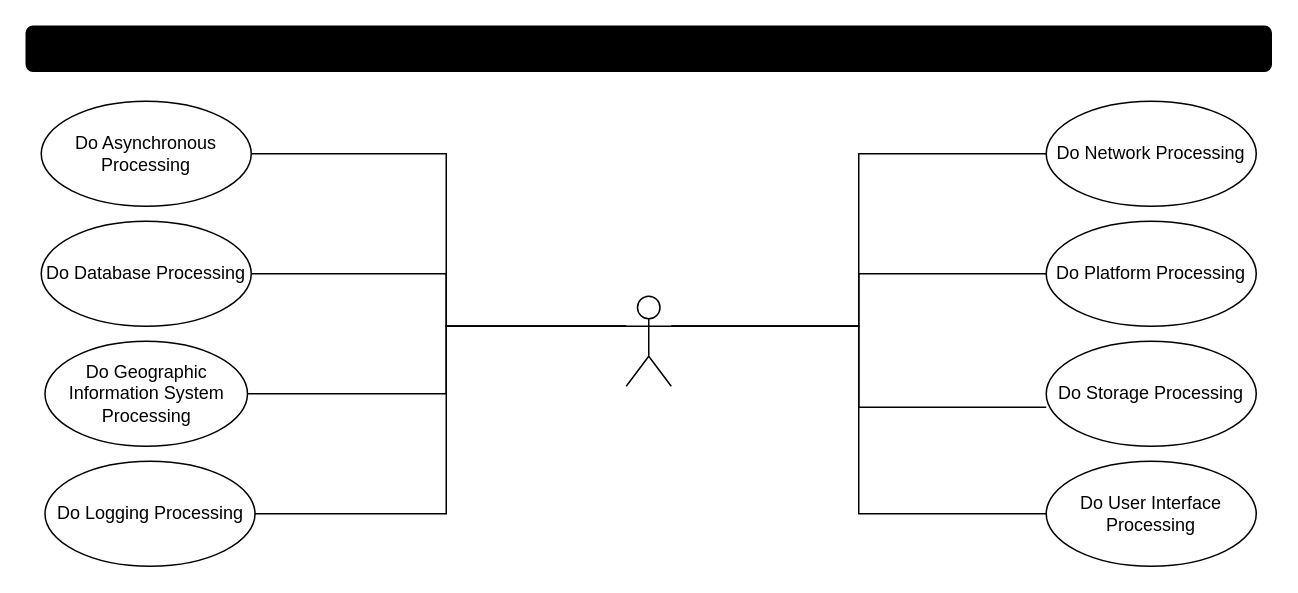
The diagram is 1298 pixels wide and 593 high, and some of its shapes have lost their labels. Here are the shapes that lost their labels. From the top down, the centre of each, then its label:
At (648,48): "Domain Use Cases".
At (648,340): "Software Application".
